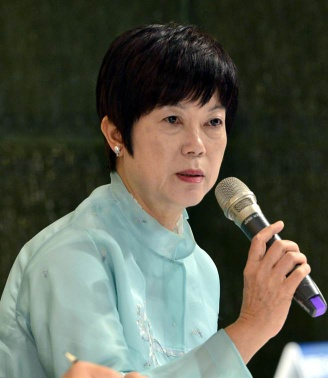female: (92, 23, 232, 213)
